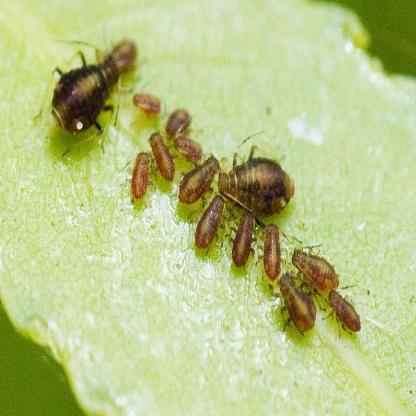aphid: (39, 40, 124, 144), (214, 140, 294, 218), (292, 236, 340, 294), (189, 192, 227, 252), (174, 156, 224, 201), (278, 275, 316, 334), (144, 132, 179, 184), (326, 288, 362, 336), (104, 29, 139, 78), (261, 222, 289, 283), (232, 210, 256, 276), (128, 142, 154, 200), (128, 82, 164, 120), (177, 128, 206, 165), (163, 107, 192, 138)
